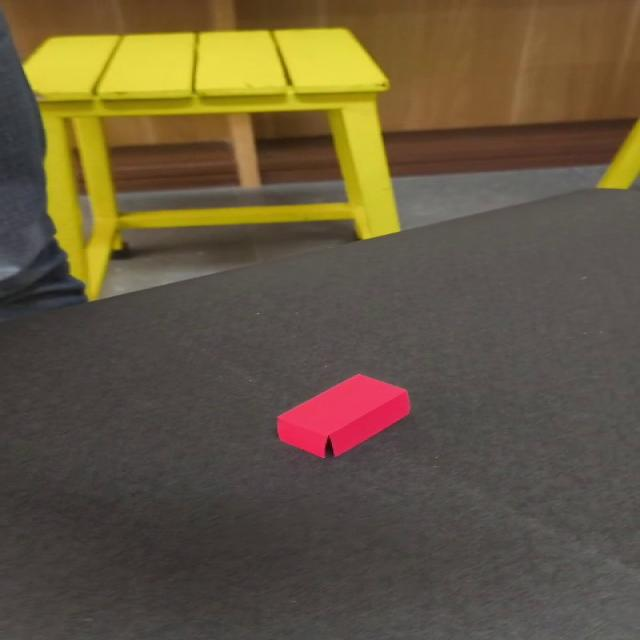red block: (274, 372, 410, 458)
